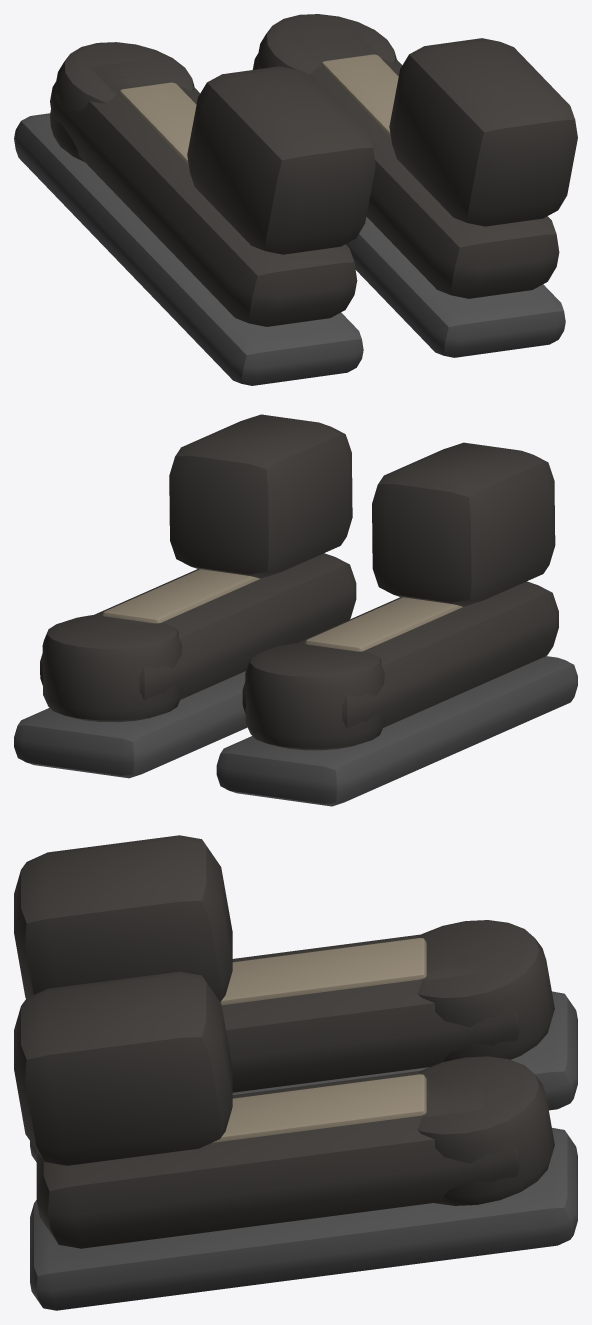
The model's file is SER-EPI-002_anim.glb.
3 renders of one model, top to bottom at view 1: azimuth 30°, elevation 25°; view 2: azimuth 150°, elevation 25°; view 3: azimuth 270°, elevation 25°, orthographic. The views are drawn at different scales.
Visible parts, largest first — view 1: SER-EPI-002_anim0; view 2: SER-EPI-002_anim0; view 3: SER-EPI-002_anim0.
Boxes of the visible parts, x1,y1,x2,y2 form: SER-EPI-002_anim0: (14, 14, 577, 385); SER-EPI-002_anim0: (14, 414, 577, 806); SER-EPI-002_anim0: (14, 835, 577, 1310).
Bounding box in the file's own units: 0.2378 × 0.1898 × 0.296.
